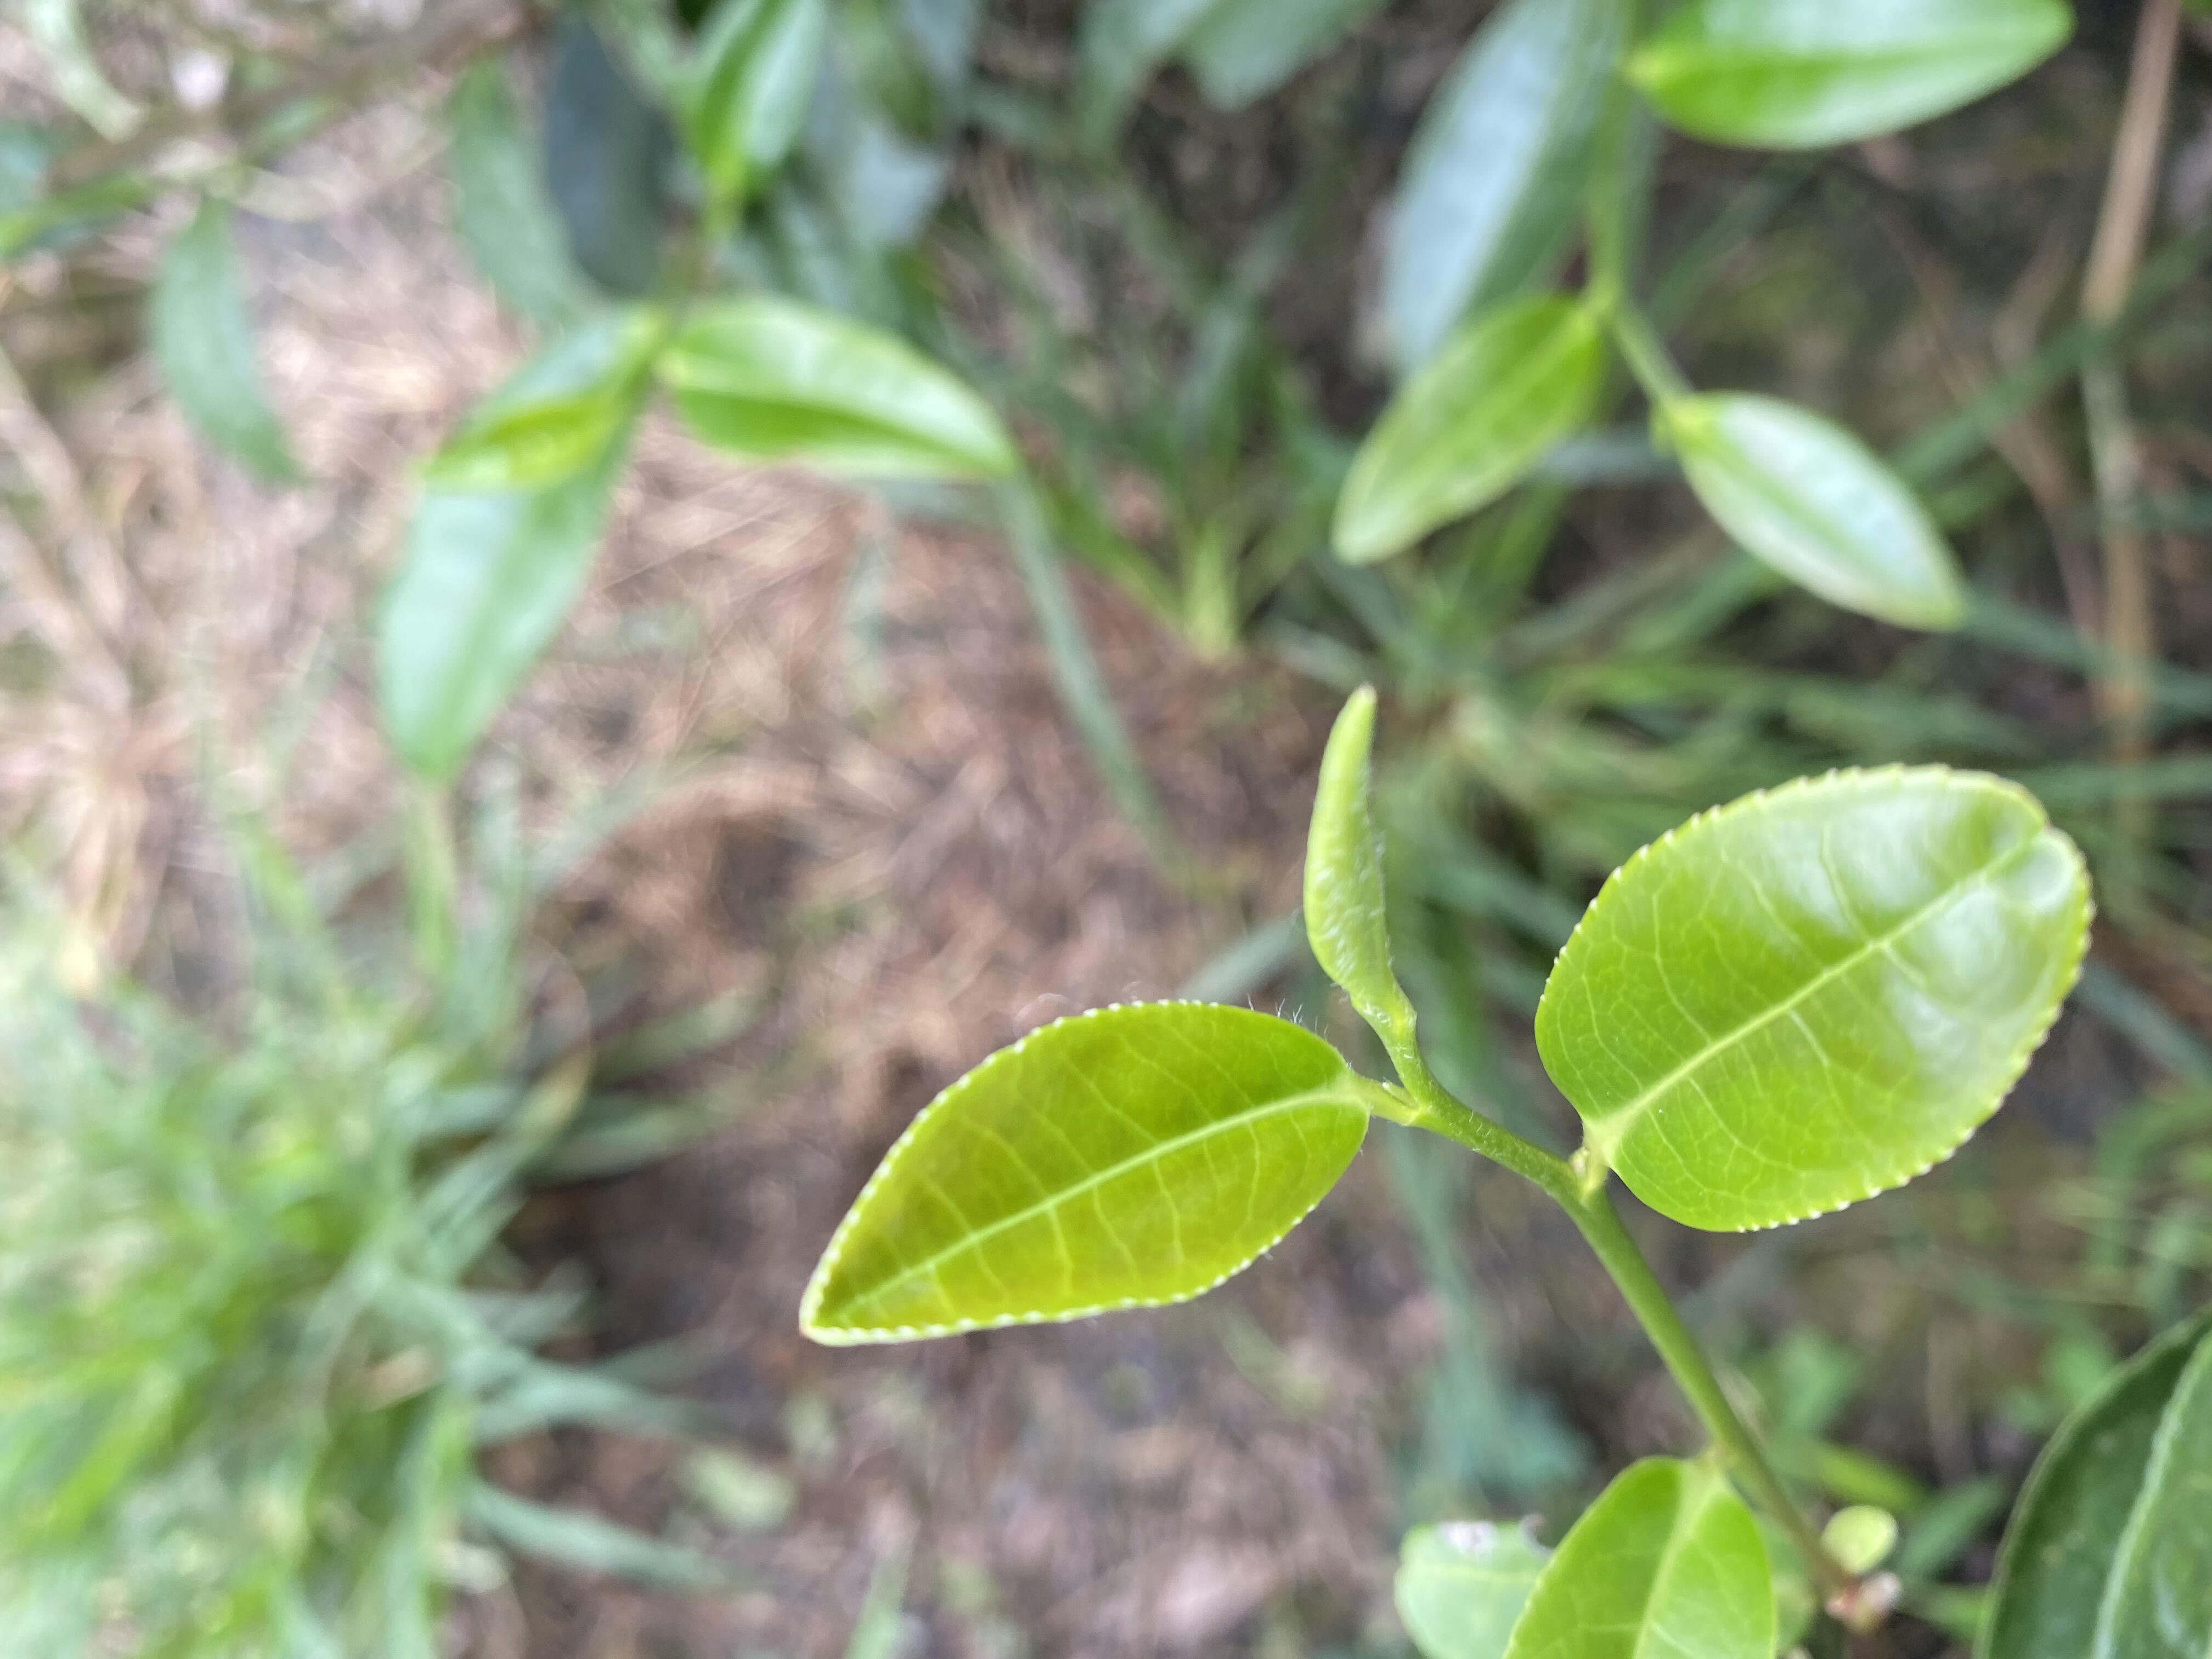healthy: (1534, 762, 2099, 1234), (796, 995, 1367, 1344)
